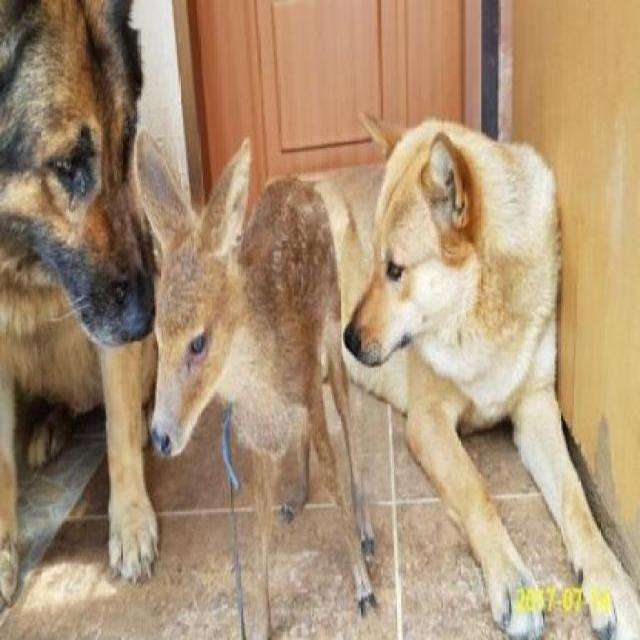deer: (147, 122, 344, 473)
